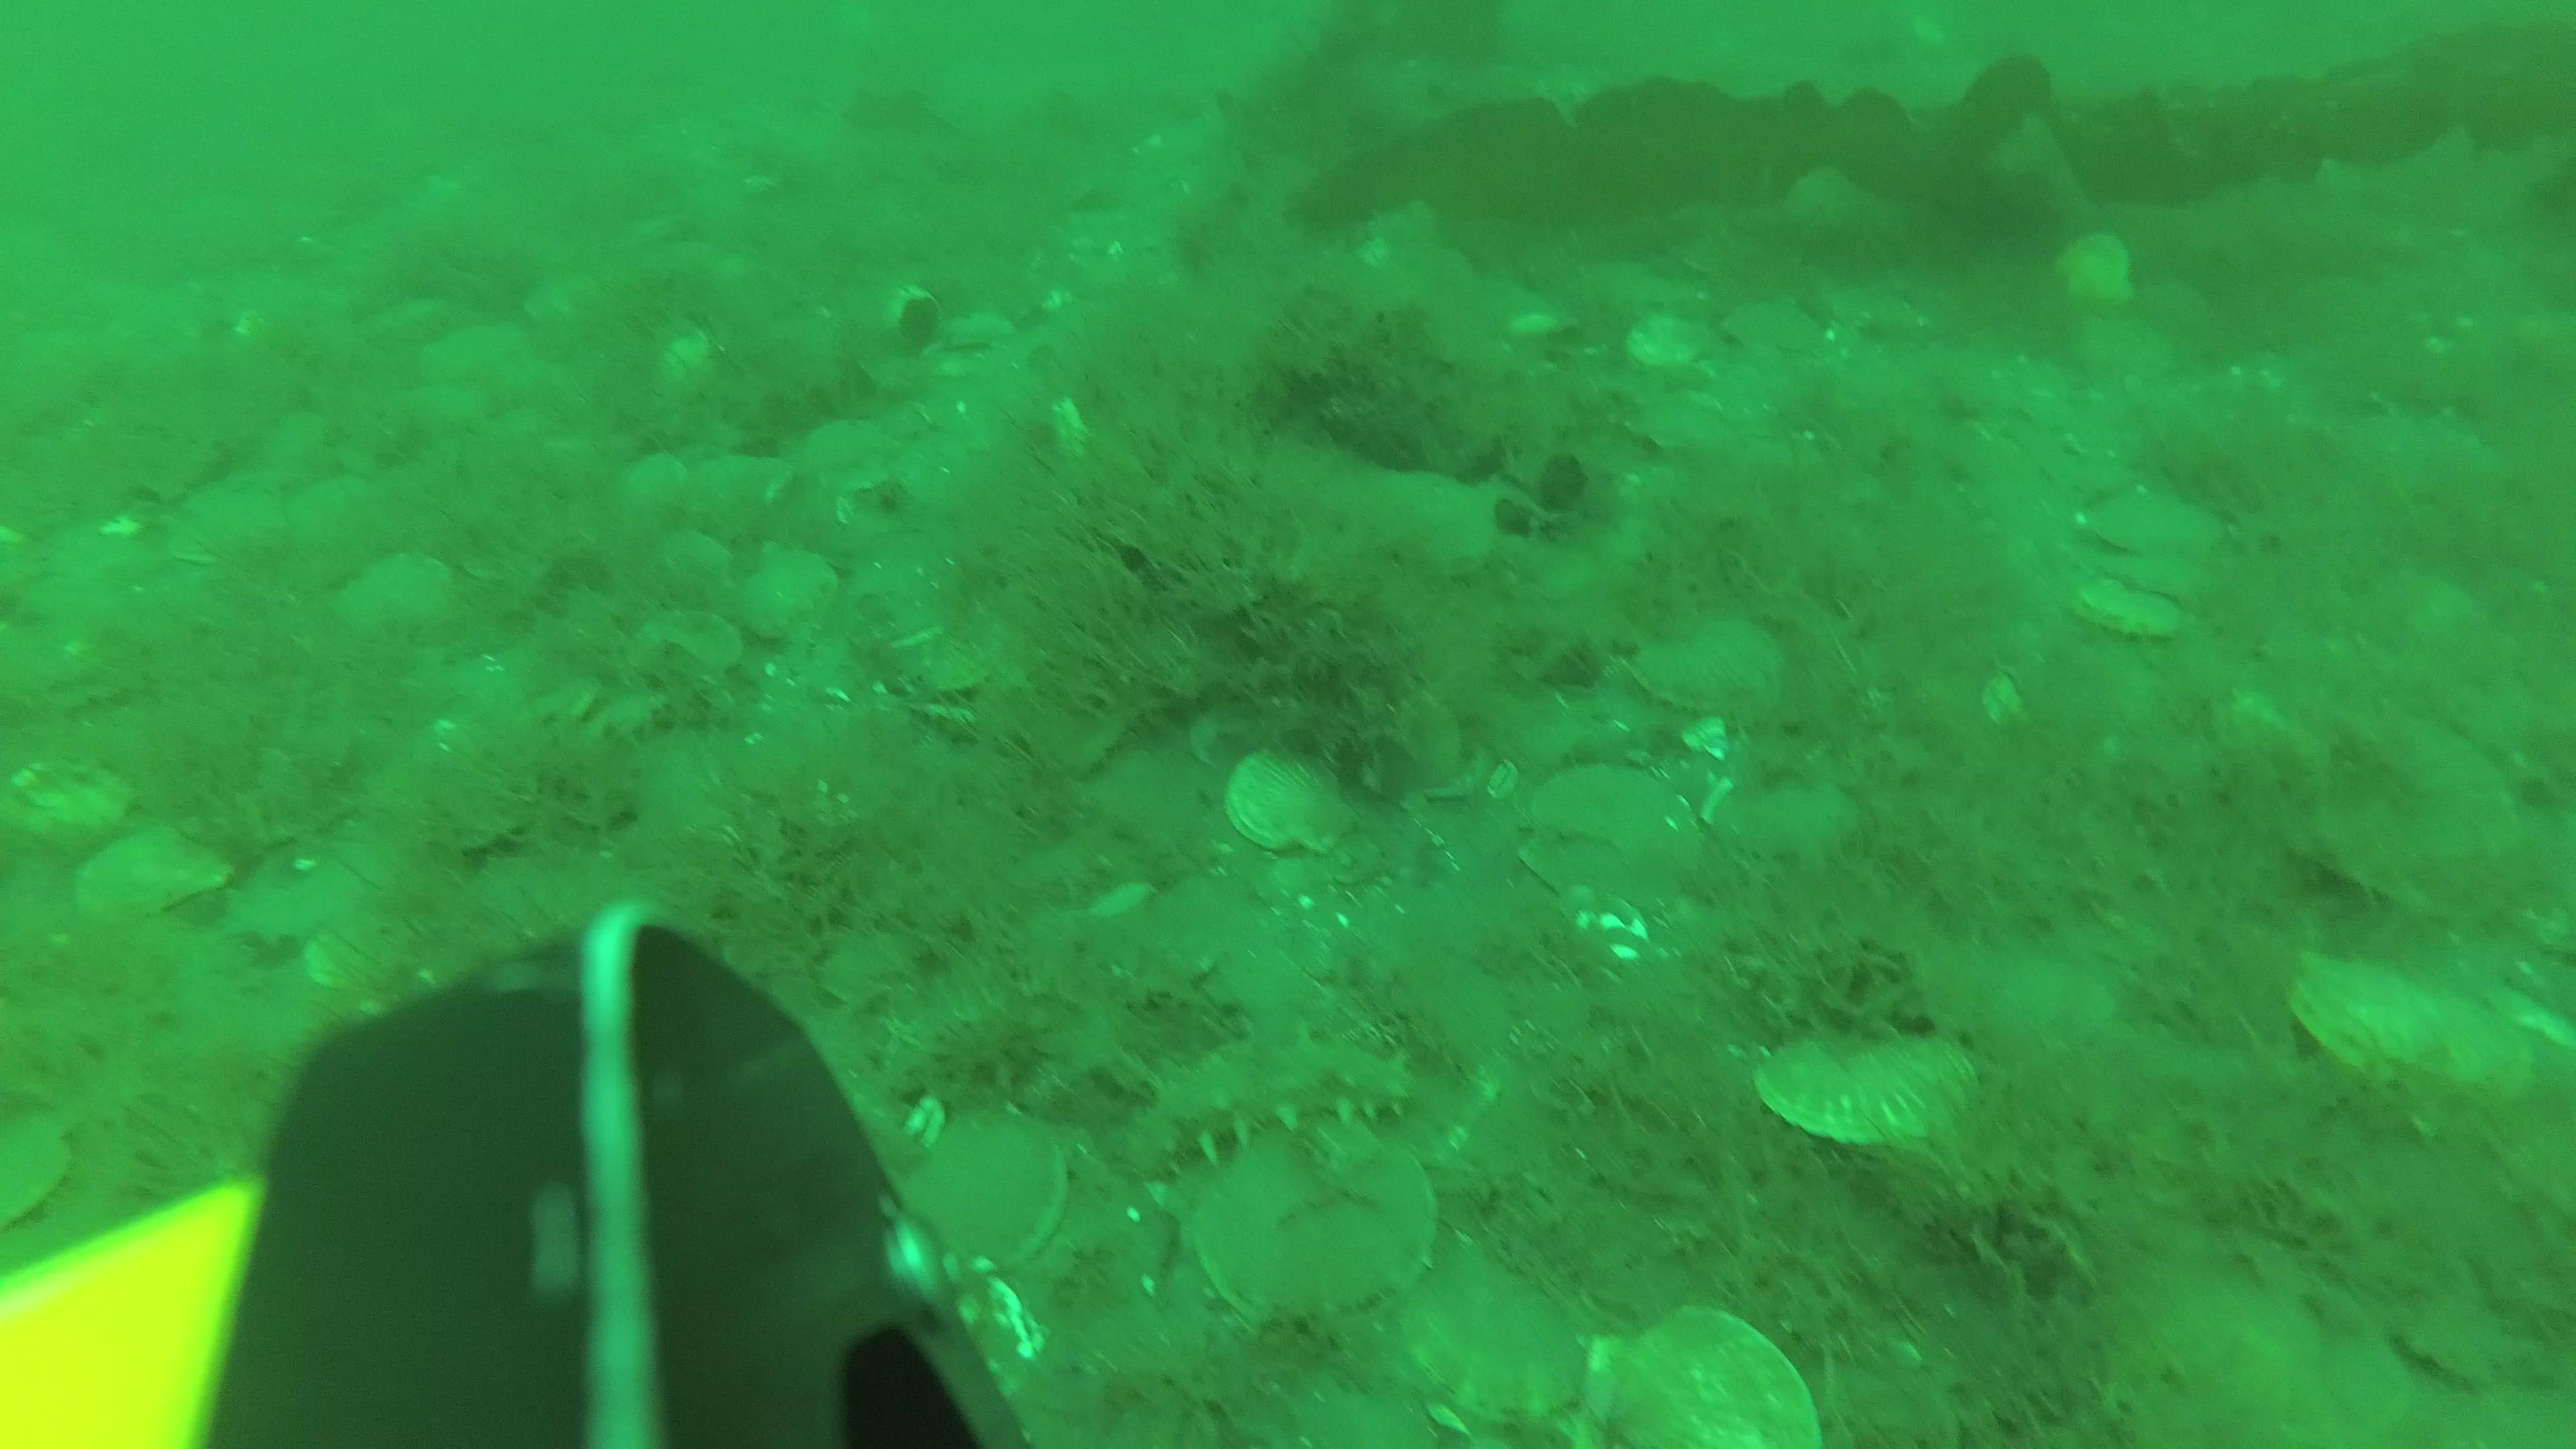holothurian: (1118, 1023, 1410, 1175)
scallop: (2111, 1224, 2426, 1449), (1184, 1122, 1454, 1322), (2296, 941, 2521, 1118), (1359, 1249, 1592, 1414), (1760, 1007, 1974, 1146), (1585, 1315, 1805, 1449), (1518, 768, 1698, 911), (915, 1113, 1065, 1284), (1362, 462, 1504, 586), (87, 819, 230, 936), (1725, 757, 1879, 865), (1642, 621, 1794, 729), (1327, 679, 1463, 796), (9, 752, 133, 867), (1233, 747, 1348, 869), (338, 559, 448, 649), (635, 614, 748, 686), (2093, 485, 2210, 550), (2066, 568, 2176, 635), (2121, 540, 2227, 607), (743, 550, 837, 625), (2054, 232, 2137, 308), (1624, 311, 1720, 377)
